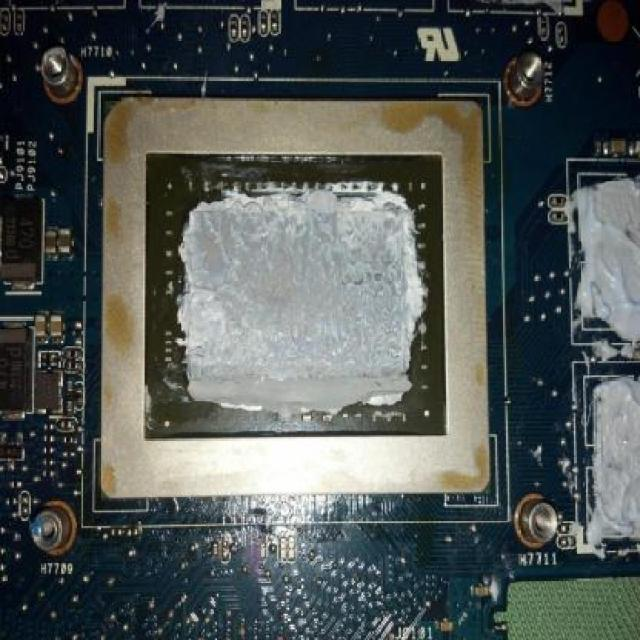Burn: (147, 163, 456, 446)
